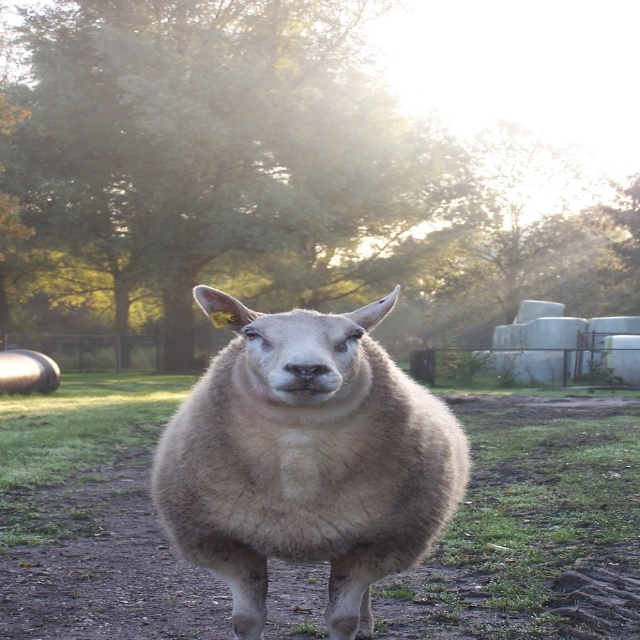Sheep: (151, 286, 477, 640)
